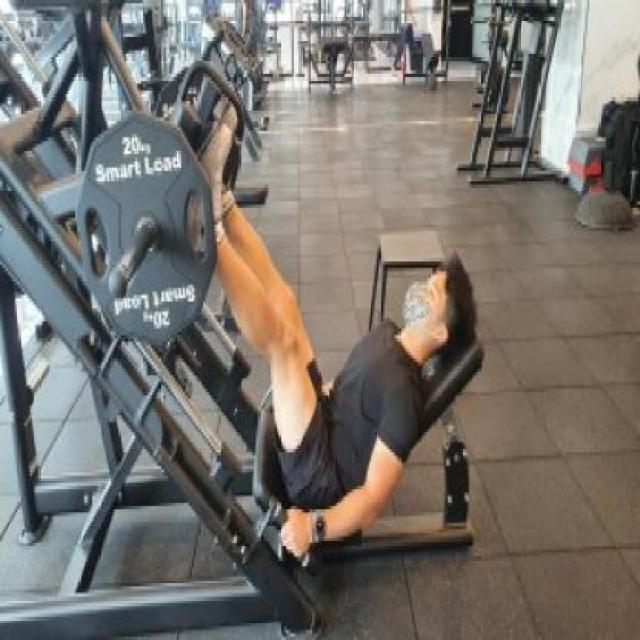leg press: (2, 3, 496, 640)
